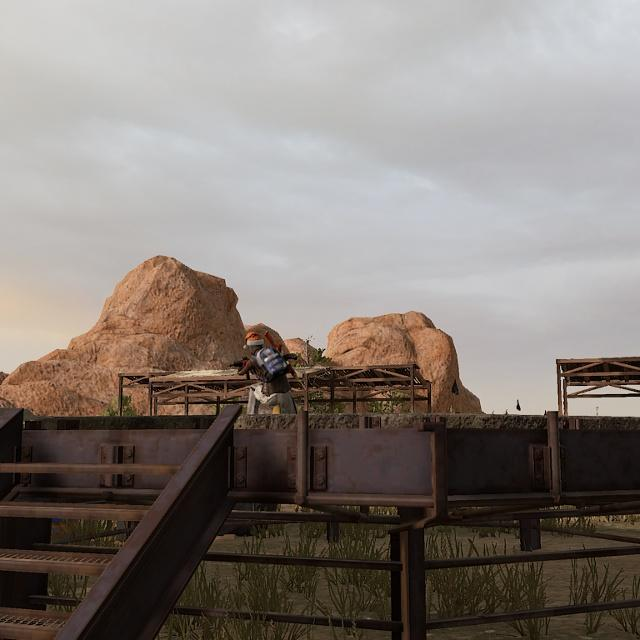head: (232, 327, 301, 414), (242, 328, 265, 356)
